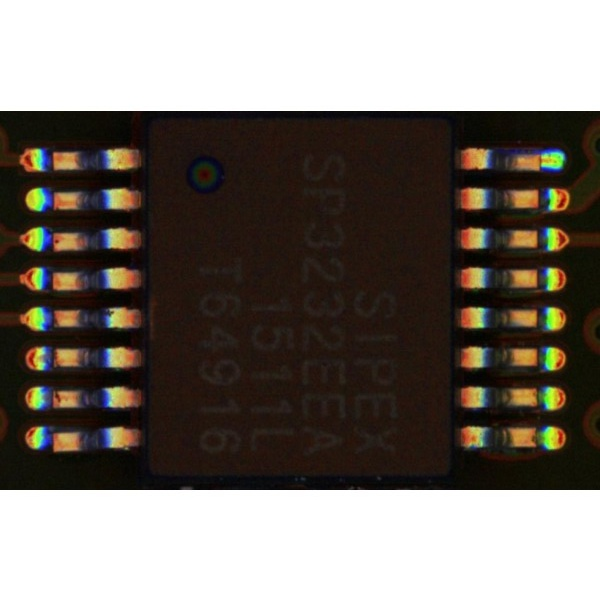Bad_podu: (532, 155, 551, 166)
